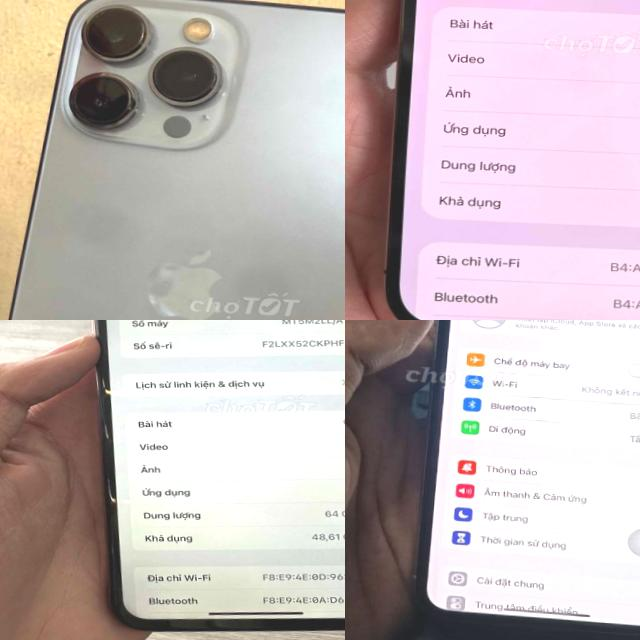gen_12_13: (0, 0, 345, 320)
gen_14: (368, 0, 640, 320)
gen_x_xs: (44, 320, 345, 640), (414, 320, 640, 640)
